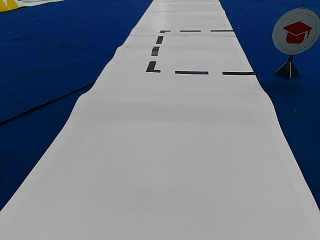school: (272, 7, 317, 54)
